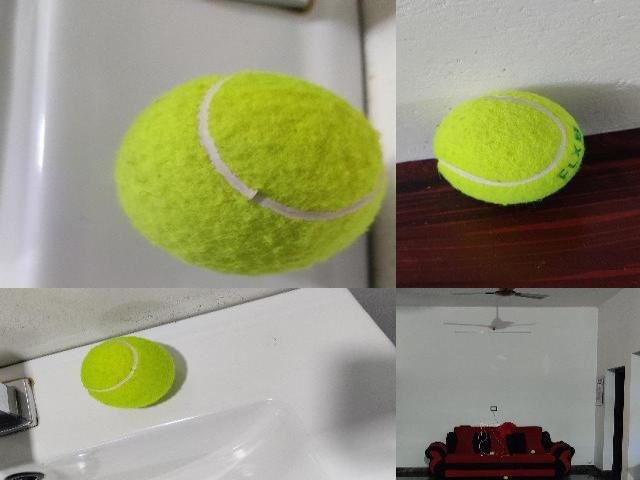tennis-ball: (113, 70, 384, 277), (432, 90, 584, 206), (80, 336, 176, 408), (531, 450, 535, 453), (503, 476, 507, 479)
